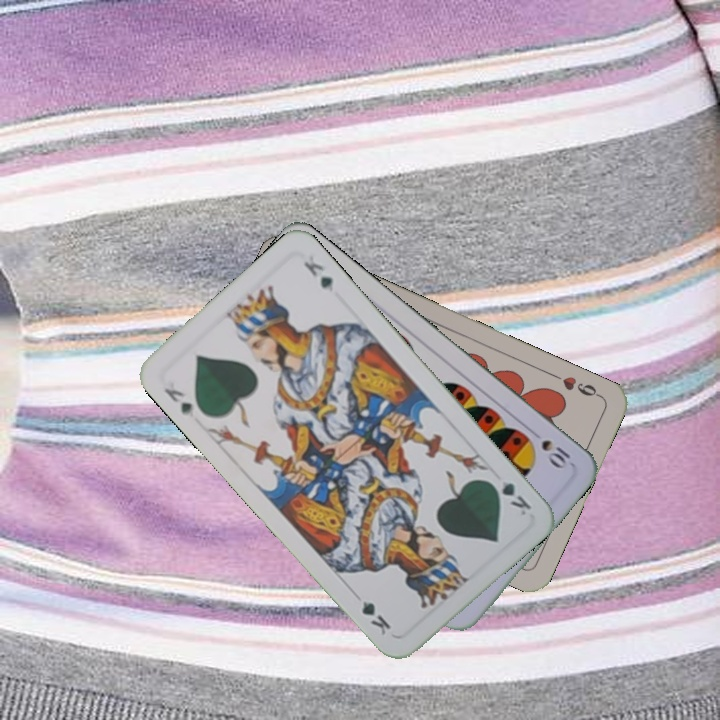GK: (484, 474, 534, 519), (160, 383, 198, 419)
H9: (548, 370, 604, 401)
S10: (525, 425, 576, 471)
